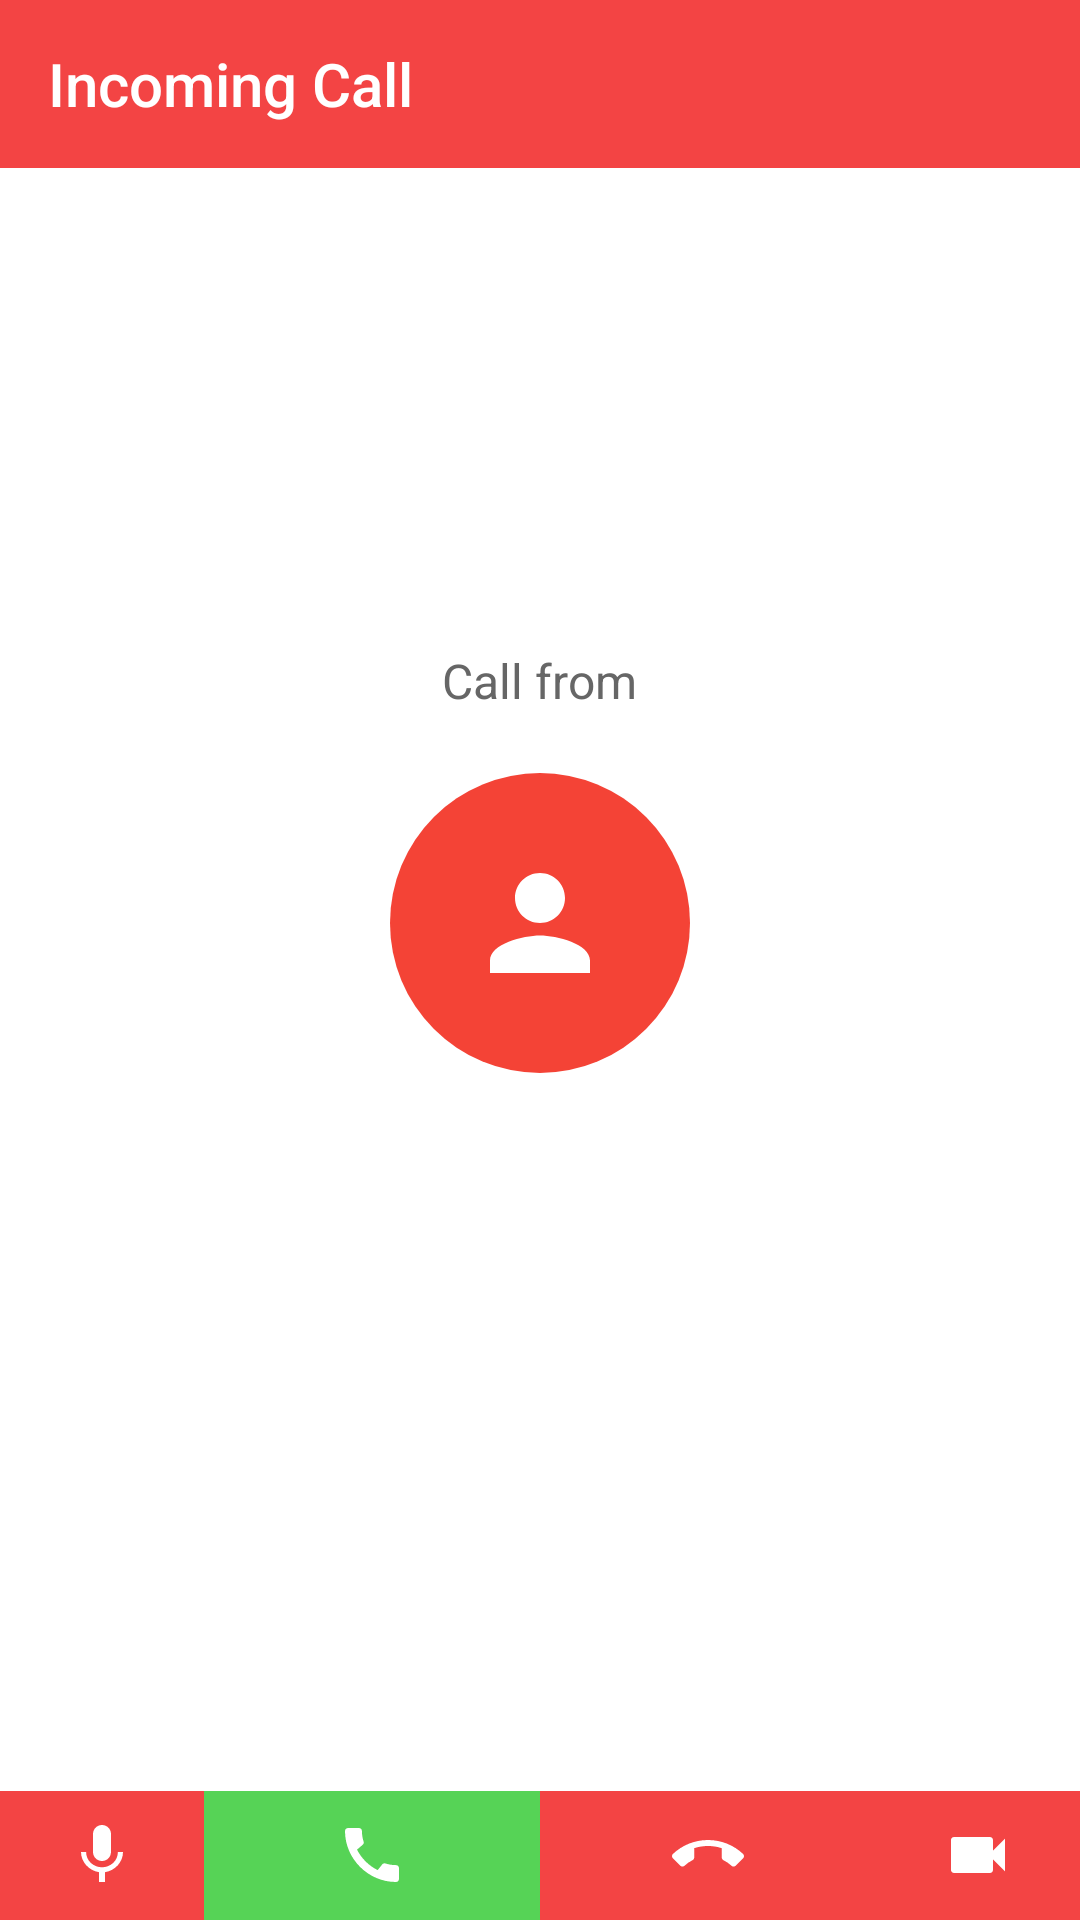

Screen size 1080w x 1920h. Icon name, then its box in pixels as rect(x1, y1, x2, y2):
call: rect(345, 1828, 399, 1882)
call end: rect(672, 1840, 744, 1867)
mic: rect(81, 1825, 123, 1882)
person: rect(490, 873, 590, 973)
videocam: rect(951, 1837, 1005, 1873)
